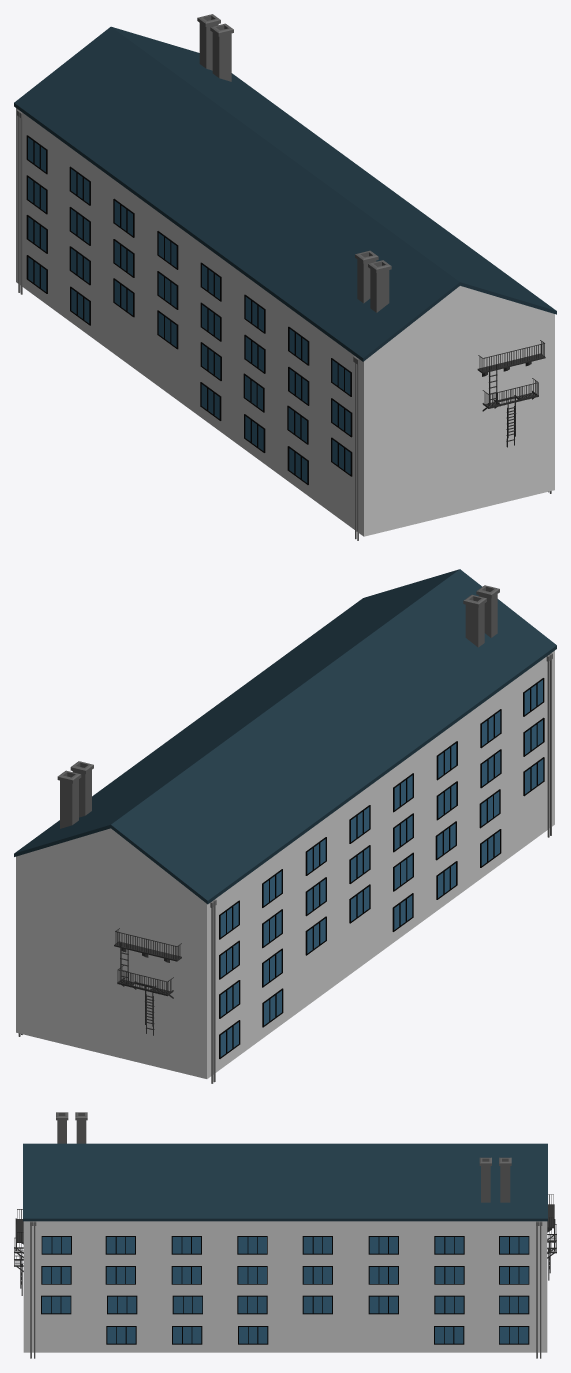
The model's file is Factory 2.fbx.
3 views of the same model, one above another, from view 1: azimuth 30°, elevation 25°; view 2: azimuth 150°, elevation 25°; view 3: azimuth 270°, elevation 25° (orthographic). The views are drawn at different scales.
Parts seen in each view (by area): view 1: Main.001, Roof.001, Front Window.001, Front Frame, Chimneys.001, Stairs.002, Pipe; view 2: Main.001, Roof.001, Front Window.001, Front Frame, Chimneys.001, Stairs.002, Pipe; view 3: Main.001, Roof.001, Back Window, Back Frame, Chimneys.001, Pipe, Stairs.002.
Part boxes in pixels (x1,y1,x2,y2): Main.001: (16, 108, 554, 536); Roof.001: (14, 26, 556, 361); Front Window.001: (28, 137, 350, 482); Front Frame: (26, 135, 352, 484); Chimneys.001: (197, 14, 391, 312); Stairs.002: (477, 340, 545, 447); Pipe: (17, 110, 551, 540); Main.001: (16, 650, 554, 1078); Roof.001: (14, 569, 556, 904); Front Window.001: (220, 680, 543, 1056); Front Frame: (219, 678, 544, 1058); Chimneys.001: (57, 585, 499, 828); Stairs.002: (114, 928, 181, 1035); Pipe: (18, 653, 552, 1083); Main.001: (23, 1221, 547, 1352); Roof.001: (23, 1143, 547, 1221); Back Window: (42, 1237, 528, 1343); Back Frame: (41, 1236, 529, 1344); Chimneys.001: (56, 1112, 511, 1202); Pipe: (30, 1221, 542, 1358); Stairs.002: (14, 1194, 556, 1295).
Bounding box in the file's own units: 1424 × 1751 × 4567.
